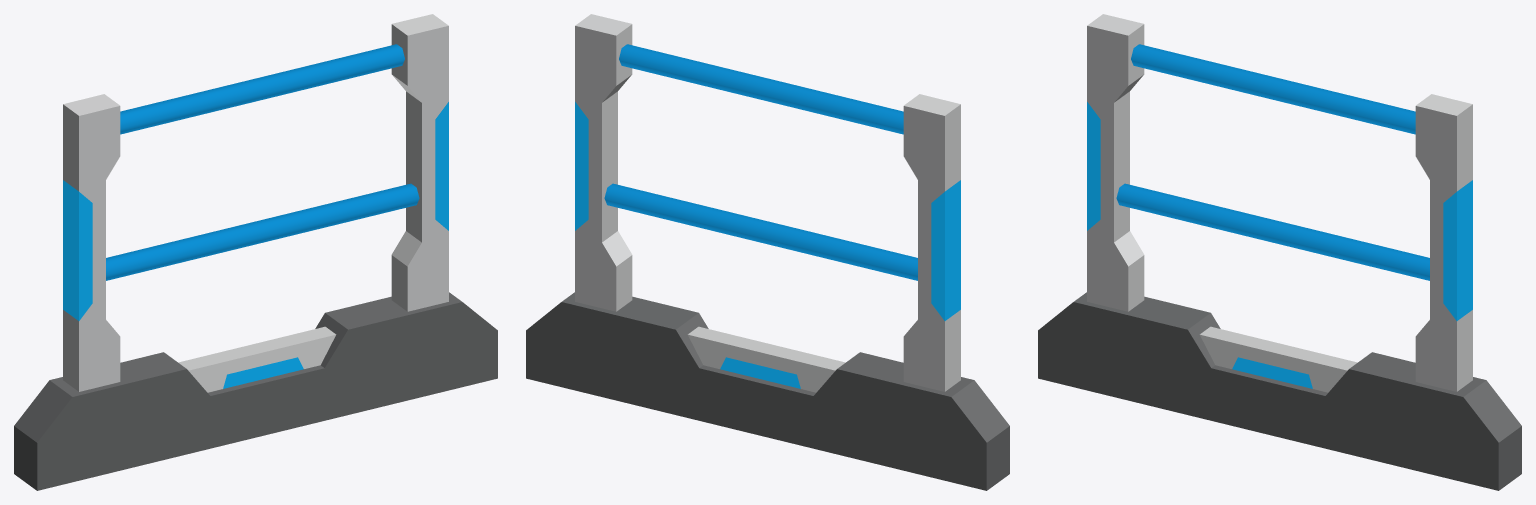
File: Fence_type_A_007.glb
3 renders of one model, left to right at view 1: azimuth 30°, elevation 25°; view 2: azimuth 150°, elevation 25°; view 3: azimuth 330°, elevation 25°, orthographic.
Parts seen in each view (by area): view 1: Fence_type_A_007; view 2: Fence_type_A_007; view 3: Fence_type_A_007.
Part boxes in pixels (x1=…): Fence_type_A_007: x1=14, y1=14, x2=497, y2=490; Fence_type_A_007: x1=526, y1=14, x2=1009, y2=490; Fence_type_A_007: x1=1038, y1=14, x2=1521, y2=490.
Size of the model in its own units: 1.9 by 1.42 by 0.1653.
2 materials, 2 textured.
